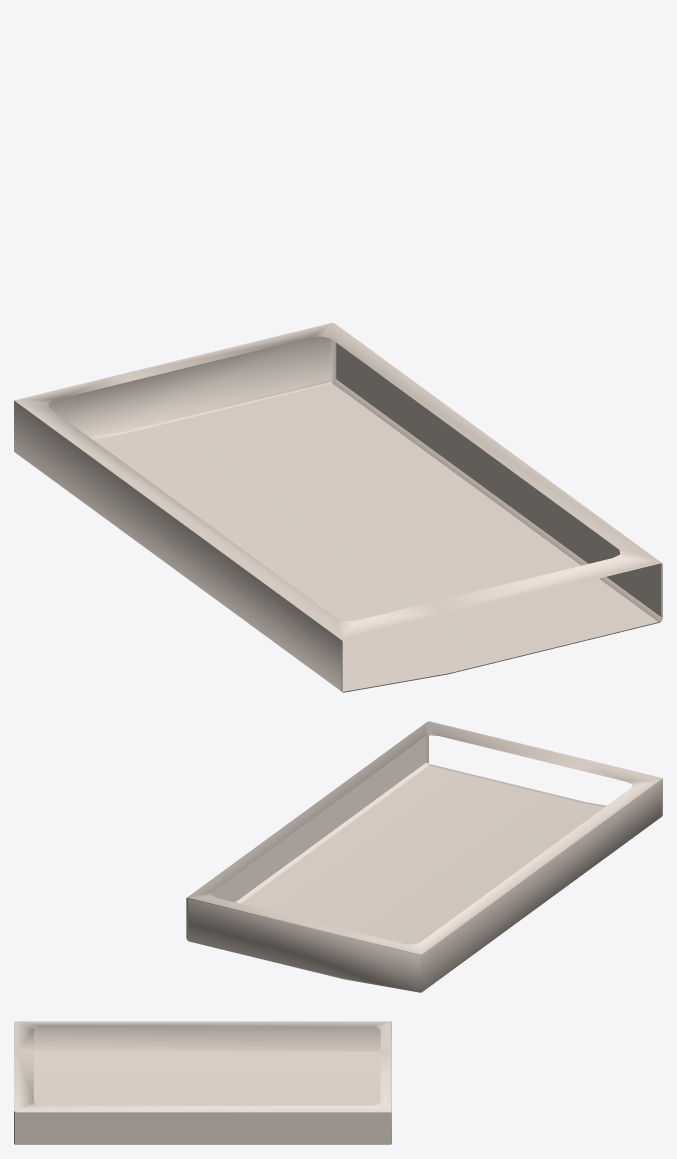
Rendered from MeshFridgeMaindoor2C3_5_GeomSubset_0.obj.
The picture shows the model from 3 angles, top to bottom: view 1: azimuth 30°, elevation 25°; view 2: azimuth 150°, elevation 25°; view 3: azimuth 270°, elevation 25°; orthographic projection. The views are drawn at different scales.
Visible parts, largest first — view 1: MeshFridgeMaindoor2C3_5_GeomSubset_0; view 2: MeshFridgeMaindoor2C3_5_GeomSubset_0; view 3: MeshFridgeMaindoor2C3_5_GeomSubset_0.
Boxes of the visible parts, bbox=[...] form: MeshFridgeMaindoor2C3_5_GeomSubset_0: bbox=[14, 322, 662, 692]; MeshFridgeMaindoor2C3_5_GeomSubset_0: bbox=[186, 721, 662, 992]; MeshFridgeMaindoor2C3_5_GeomSubset_0: bbox=[14, 1021, 391, 1144].
Bounding box in the file's own units: 0.572 × 0.3322 × 1.74.
